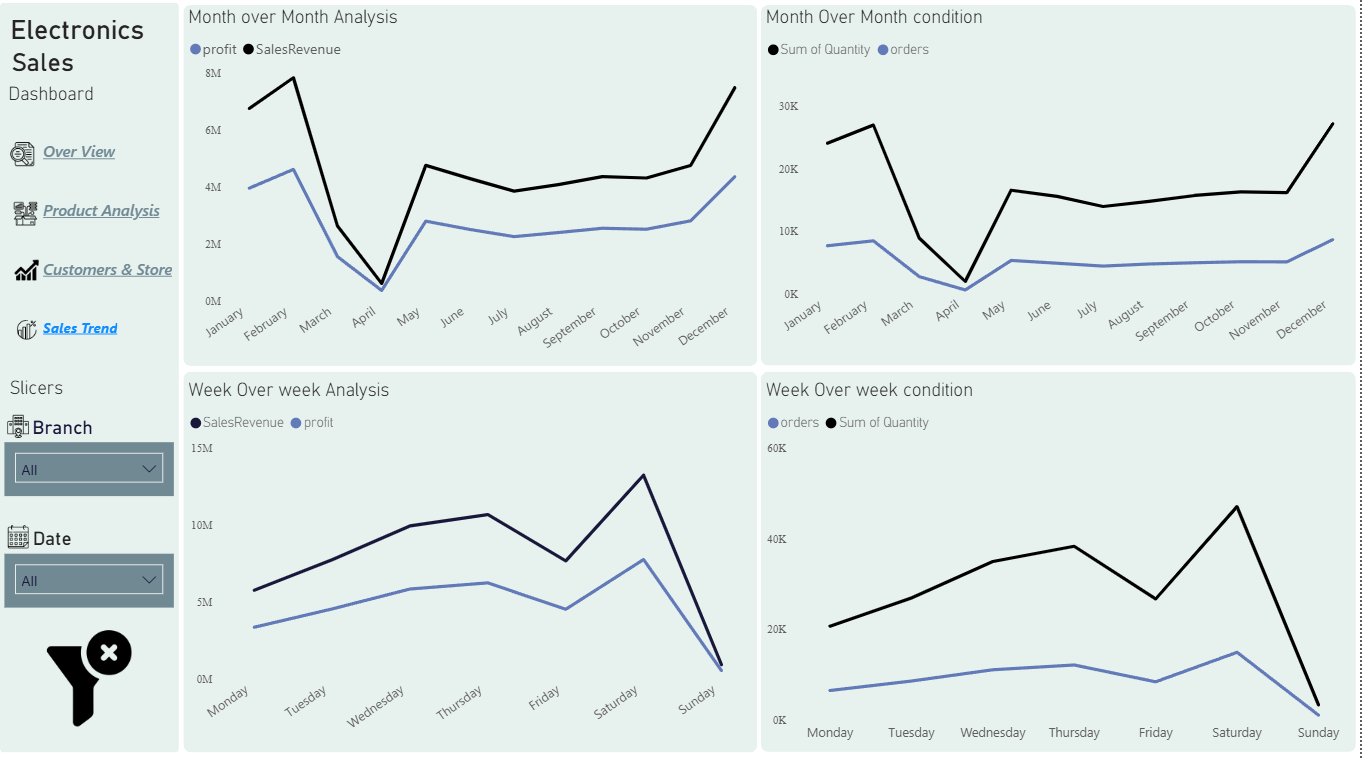

The dashboard page shown, as its layout file describes it:
{"tool":"powerbi","page":{"name":"Sales Trend","canvas":[1280,720],"ordinal":3},"visuals":[{"type":"shape","box":[0,7.3,168.3,705.3],"z":0},{"type":"shape","box":[716.1,354.5,560,358.1],"z":1000},{"type":"shape","box":[172.4,354.2,540.2,358.4],"z":2000},{"type":"slicer","fields":{"Values":["Stores.State"]},"box":[4.4,420.3,159,51.1],"z":3000},{"type":"card","fields":{"Values":["Title.Branch"]},"box":[20.4,393.7,75.6,26.7],"z":4000},{"type":"image","box":[0.4,389.2,34,32],"z":5000},{"type":"slicer","fields":{"Values":["Sales.Order Date.Variation.Date Hierarchy.Year","Sales.Order Date.Variation.Date Hierarchy.Month"]},"box":[4.4,525.5,159,51],"z":6000},{"type":"image","box":[0.4,493.5,34,32],"z":7000},{"type":"card","fields":{"Values":["Title.Date"]},"box":[23.4,493.5,50,36],"z":8000},{"type":"card","fields":{"Values":["Title.Dashboard"]},"box":[0,58.9,95.6,65.6],"z":9000},{"type":"card","fields":{"Values":["Title.Electronics"]},"box":[0,8.9,144.4,43.3],"z":10000},{"type":"card","fields":{"Values":["Title.Sales"]},"box":[0,41.1,80,41.1],"z":11000},{"type":"card","fields":{"Values":["Title.Slicers"]},"box":[0,348.7,67.8,40],"z":12000},{"type":"image","box":[33.3,592.2,102.2,101.1],"z":13000},{"type":"pageNavigator","box":[40.4,124.7,124.7,211.2],"z":14000},{"type":"image","box":[4.3,133.3,33,33],"z":15000},{"type":"image","box":[7.8,188.9,33,33],"z":16000},{"type":"image","box":[7.9,242,33,33],"z":17000},{"type":"image","box":[7.9,297.6,33,33],"z":18000},{"type":"shape","box":[172.4,9.3,540.2,339.7],"z":19000},{"type":"shape","box":[716.1,9.4,560,339.3],"z":20000},{"type":"lineChart","title":"Week Over week Analysis","fields":{"Category":["Sales.Day Name"],"Y":["measure.SalesRevenue","measure.profit"]},"box":[172.4,360.5,540.2,352.1],"z":21000},{"type":"lineChart","title":"Month Over Month condition","fields":{"Category":["Sales.Order Date.Variation.Date Hierarchy.Month"],"Y":["Sum(Sales.Quantity)","measure.orders"]},"box":[716.1,9.4,560,339.3],"z":22000},{"type":"lineChart","title":"Week Over week condition","fields":{"Category":["Sales.Day Name"],"Y":["measure.orders","Sum(Sales.Quantity)"]},"box":[715.7,360.5,559.9,352.1],"z":23000},{"type":"lineChart","title":"Month over Month Analysis","fields":{"Y":["measure.profit","measure.SalesRevenue"],"Category":["Sales.Order Date.Variation.Date Hierarchy.Month"]},"box":[172.6,9.4,540,345.1],"z":24000}]}

Visuals, with their boxes in screenshot pixels (x1, y1, x2, y2), scaled from the page's 1280x720 canvas onto the 1364x759 screenshot:
shape: <bbox>0, 8, 179, 751</bbox>
shape: <bbox>763, 374, 1360, 751</bbox>
shape: <bbox>184, 373, 759, 751</bbox>
slicer - Stores.State: <bbox>5, 443, 174, 497</bbox>
card - Title.Branch: <bbox>22, 415, 102, 443</bbox>
image: <bbox>0, 410, 37, 444</bbox>
slicer - Sales.Order Date.Variation.Date Hierarchy.Year x Sales.Order Date.Variation.Date Hierarchy.Month: <bbox>5, 554, 174, 608</bbox>
image: <bbox>0, 520, 37, 554</bbox>
card - Title.Date: <bbox>25, 520, 78, 558</bbox>
card - Title.Dashboard: <bbox>0, 62, 102, 131</bbox>
card - Title.Electronics: <bbox>0, 9, 154, 55</bbox>
card - Title.Sales: <bbox>0, 43, 85, 87</bbox>
card - Title.Slicers: <bbox>0, 368, 72, 410</bbox>
image: <bbox>35, 624, 144, 731</bbox>
pageNavigator: <bbox>43, 131, 176, 354</bbox>
image: <bbox>5, 141, 40, 175</bbox>
image: <bbox>8, 199, 43, 234</bbox>
image: <bbox>8, 255, 44, 290</bbox>
image: <bbox>8, 314, 44, 349</bbox>
shape: <bbox>184, 10, 759, 368</bbox>
shape: <bbox>763, 10, 1360, 368</bbox>
"Week Over week Analysis" lineChart: <bbox>184, 380, 759, 751</bbox>
"Month Over Month condition" lineChart: <bbox>763, 10, 1360, 368</bbox>
"Week Over week condition" lineChart: <bbox>763, 380, 1359, 751</bbox>
"Month over Month Analysis" lineChart: <bbox>184, 10, 759, 374</bbox>
